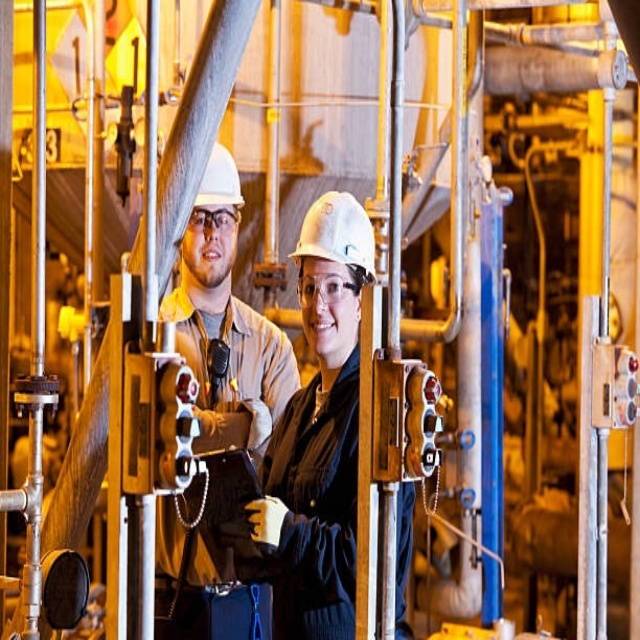Gafas: (300, 276, 362, 307), (188, 209, 240, 234)
Guantes: (244, 488, 290, 554)
Sin_mascara: (195, 242, 227, 284), (307, 315, 338, 348)
